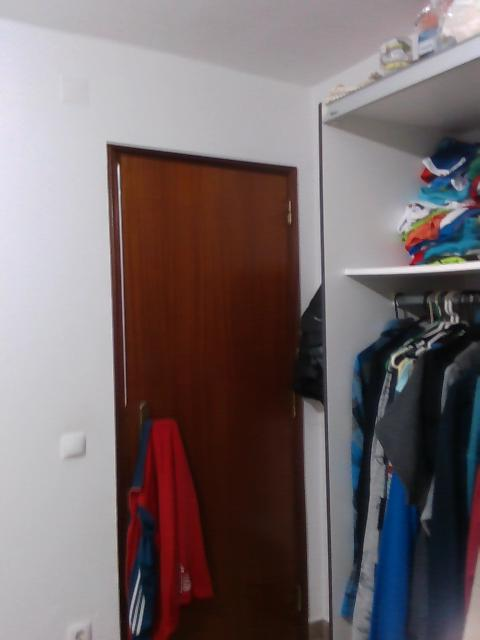closed_door: (104, 142, 307, 638)
